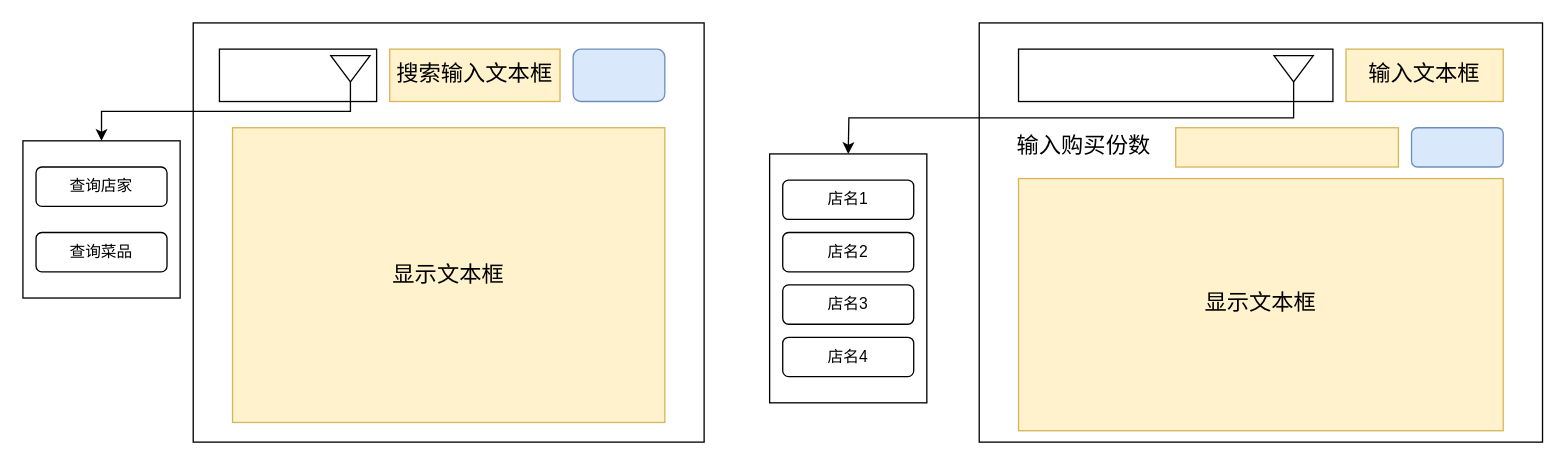
Image size: 1565x465. Some labels were removed from this diagram. Each missing label, with the centre of its shape:
"下单" goes at [1456,146].
"份数输入文本框" goes at [1286,146].
"搜索" goes at [618,75].
